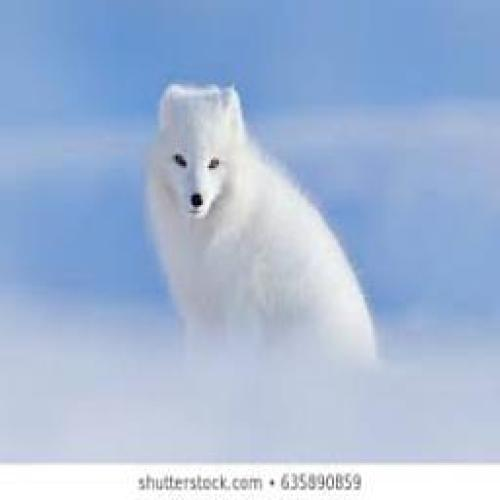arctic_fox-endangered: (150, 83, 380, 366)
